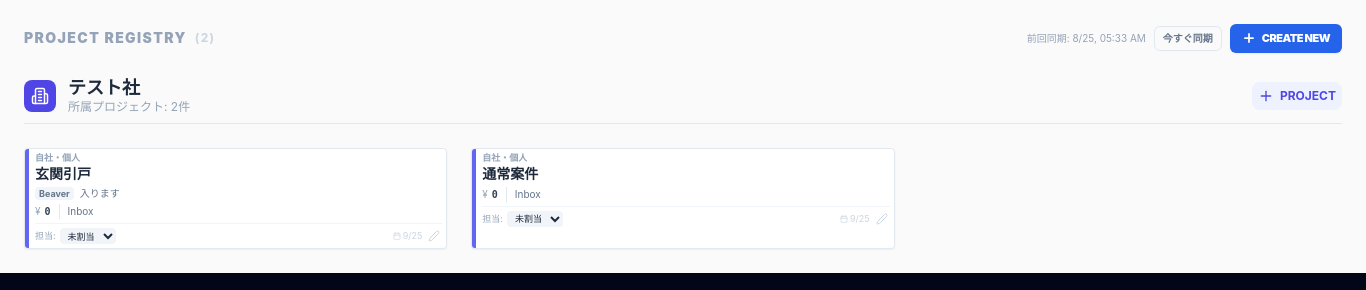
it: R-153: ProjectRegistryScreen Beaver最小統合 › 同期失敗時は「同期できませんでした（前回同期: X）」を表示する
This screenshot has width=1366, height=290.
Click the button "今すぐ同期" at {"x": 1188, "y": 38}, box x1=1154 y1=26 x2=1222 y2=51
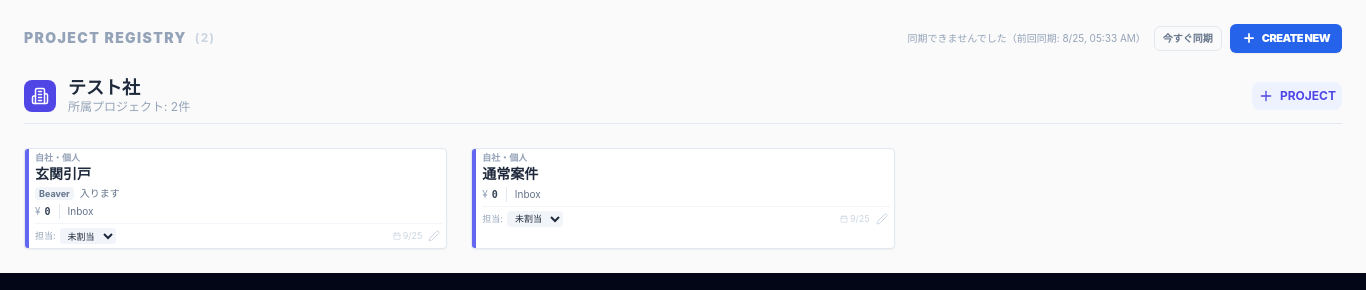
Result: the text "同期できませんでした（前回同期: 8/25, 05:33 AM）" is shown at x1=908 y1=31 x2=1146 y2=46
